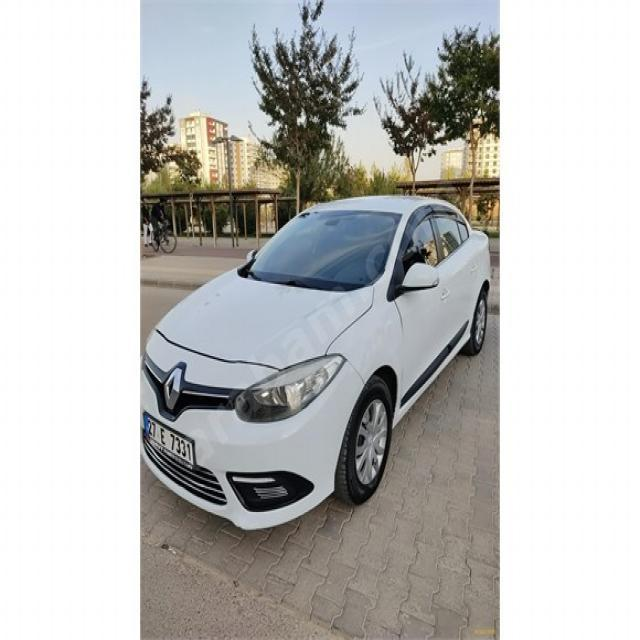plate: (142, 412, 198, 472)
